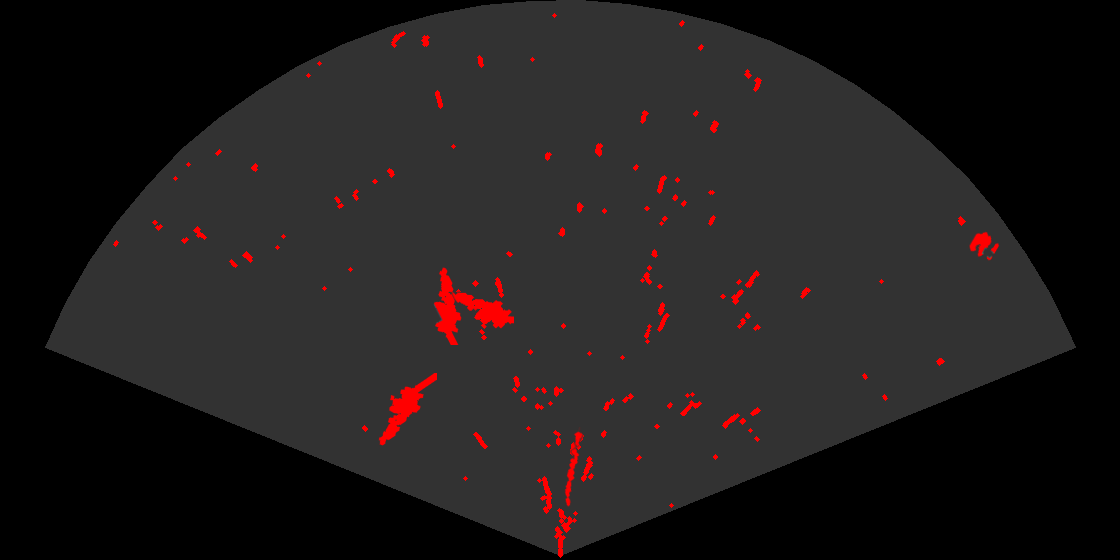ball: (968, 230, 1001, 262)
chain: (563, 427, 584, 507)
frogman: (377, 373, 437, 447), (446, 290, 514, 331), (432, 266, 463, 345)
